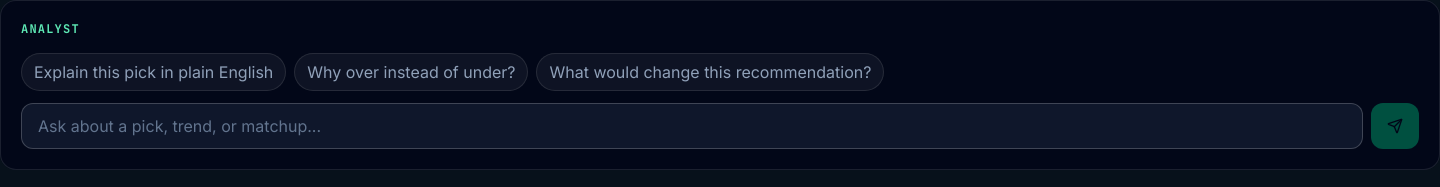
Scenario: AnalystPanel › clicking a starter chip fills the input
Click the button "Why over instead of under?" at (411, 72), box [294, 53, 528, 91]
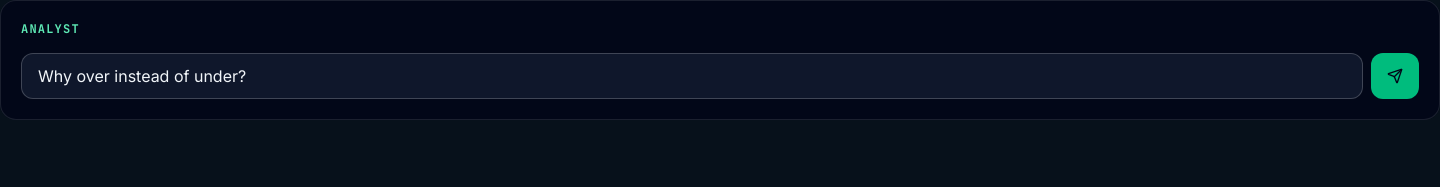
Result: the field named "analyst question" holds "Why over instead of under?" at [21, 53, 1363, 99]
